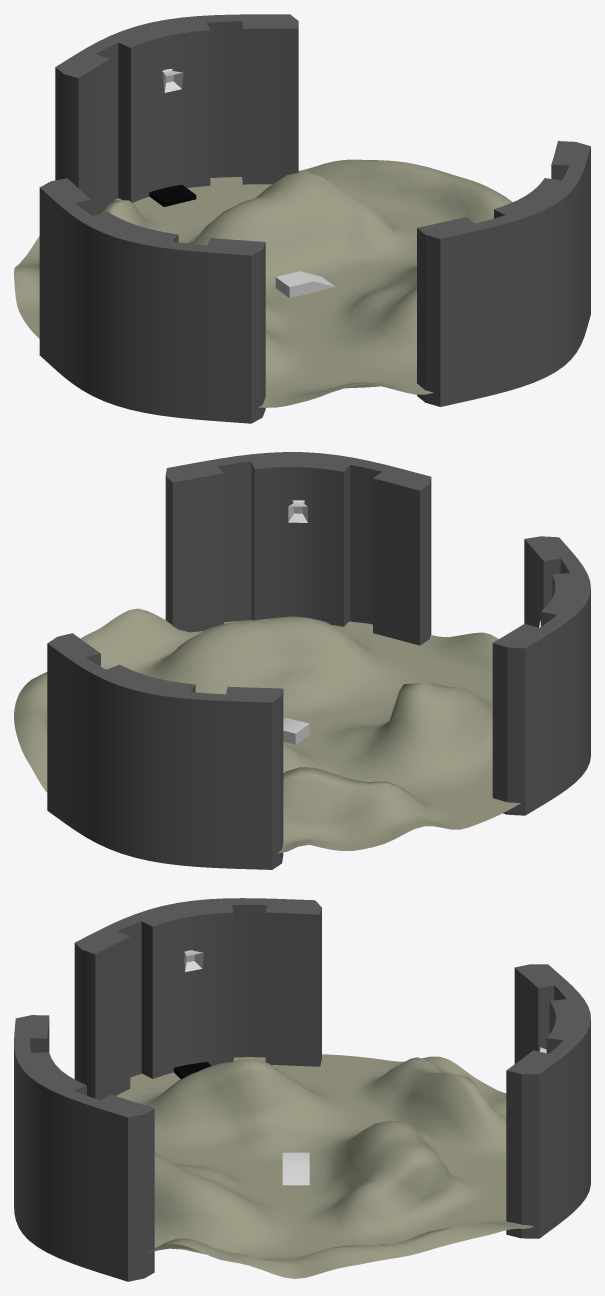
Rendered from Stage2.fbx.
3 renders of one model, top to bottom at view 1: azimuth 30°, elevation 25°; view 2: azimuth 150°, elevation 25°; view 3: azimuth 270°, elevation 25°, orthographic. The views are drawn at different scales.
Parts seen in each view (by area): view 1: pDisc2; view 2: pDisc2; view 3: pDisc2.
Boxes of the visible parts, bbox=[...] form: pDisc2: bbox=[14, 14, 590, 423]; pDisc2: bbox=[14, 452, 590, 869]; pDisc2: bbox=[14, 898, 590, 1281].
Bounding box in the file's own units: 61.32 × 20.02 × 63.73.
